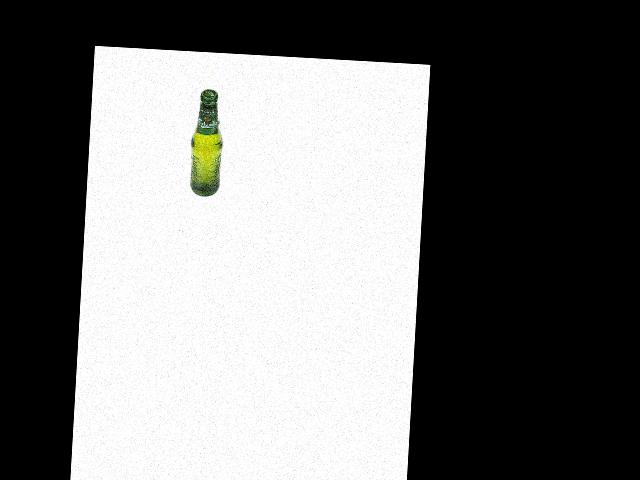beer: (187, 88, 226, 197)
